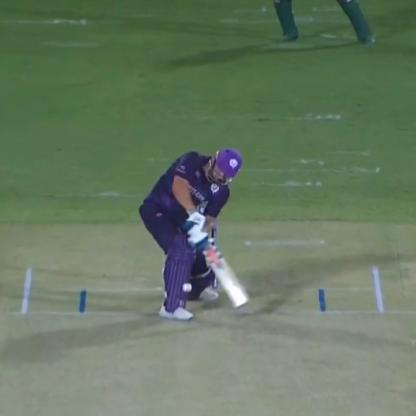ball: (180, 278, 194, 292)
bat: (180, 211, 258, 304)
pitch: (5, 267, 414, 415)
